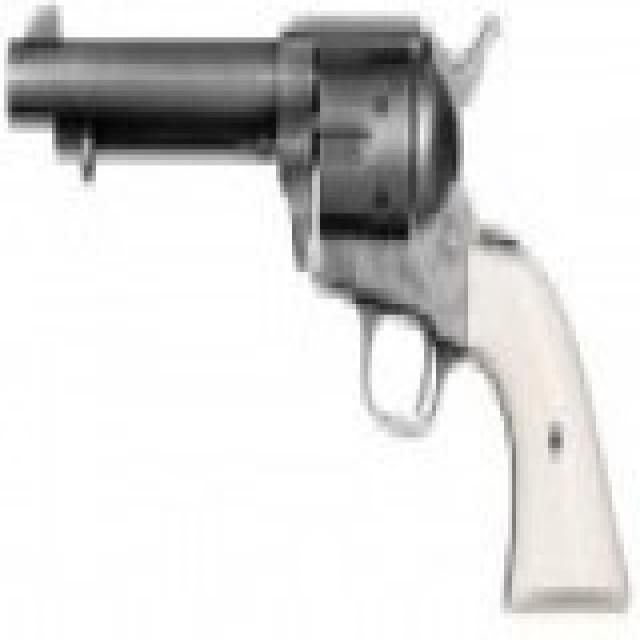gun: (0, 7, 635, 619)
